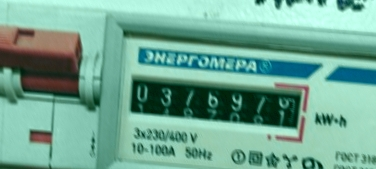0: (135, 81, 149, 102)
1: (275, 107, 288, 126)
3: (159, 85, 173, 106)
6: (206, 85, 220, 107)
7: (253, 91, 267, 114), (182, 85, 196, 106)
9: (229, 89, 243, 111)
screen: (120, 65, 314, 143)
